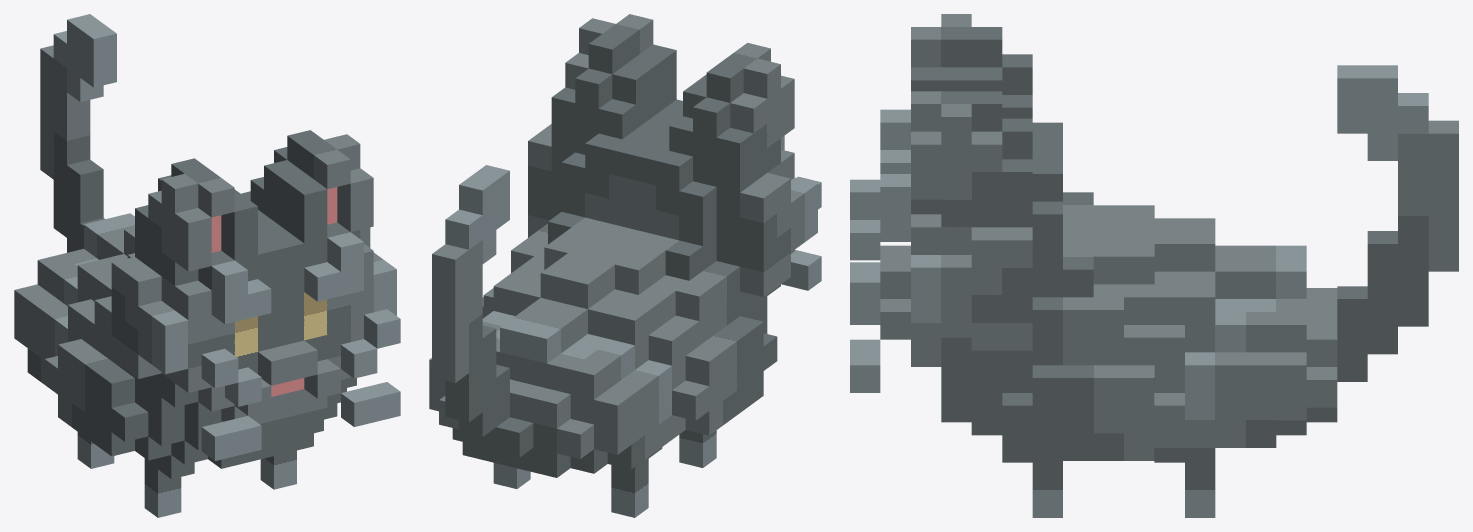
File: skin_cat.fbx
The picture shows the model from 3 angles, left to right: view 1: azimuth 30°, elevation 25°; view 2: azimuth 150°, elevation 25°; view 3: azimuth 270°, elevation 25°; orthographic projection. The views are drawn at different scales.
Visible parts, largest first — view 1: skin_3-5, skin_3-0, skin_3-4, skin_3-2, skin_3-3; view 2: skin_3-5, skin_3-0, skin_3-3, skin_3-4, skin_3-1; view 3: skin_3-5, skin_3-0, skin_3-1, skin_3-2.
Boxes of the visible parts, x1,y1,x2,y2 form: skin_3-5: (14,130,400,468); skin_3-0: (40,14,116,252); skin_3-4: (144,455,194,517); skin_3-2: (260,450,296,489); skin_3-3: (77,432,114,468); skin_3-5: (429,14,821,477); skin_3-0: (432,165,509,436); skin_3-3: (611,447,662,517); skin_3-4: (679,430,716,467); skin_3-1: (493,463,530,488); skin_3-5: (850,14,1367,460); skin_3-0: (1337,65,1458,354); skin_3-1: (1154,448,1215,517); skin_3-2: (1002,448,1062,517).
Bounding box in the file's own units: 100 × 150 × 200.
1 material, 1 textured.
